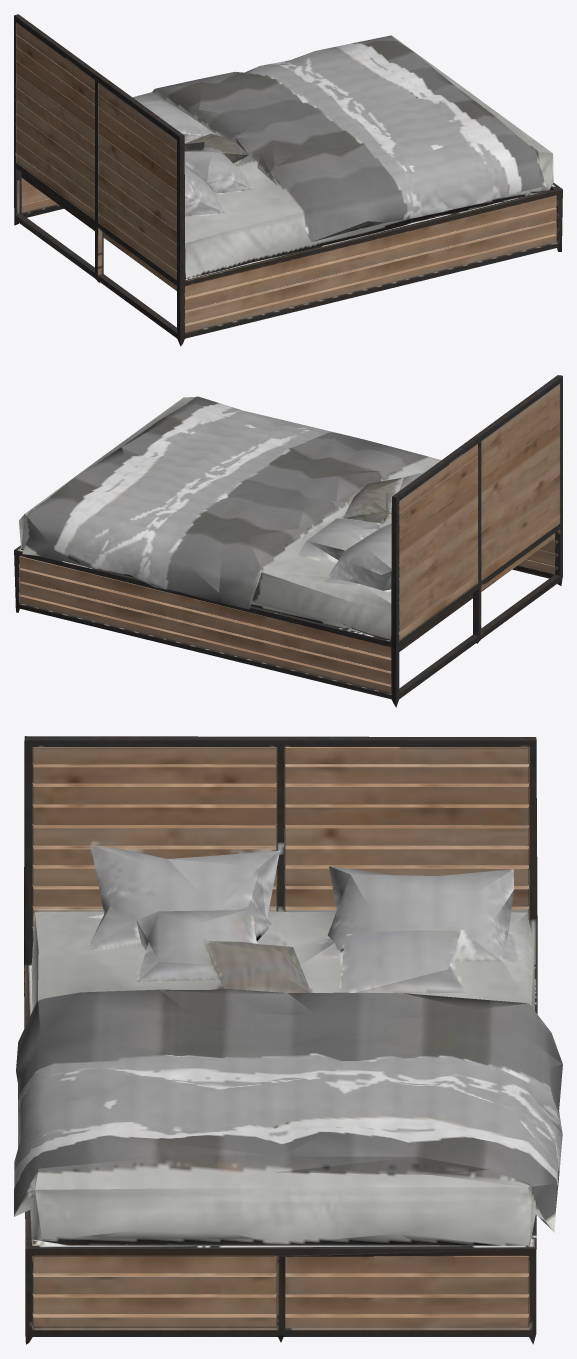
The model's file is Bed0009.obj.
The picture shows the model from 3 angles, top to bottom: view 1: azimuth 30°, elevation 25°; view 2: azimuth 150°, elevation 25°; view 3: azimuth 270°, elevation 25°; orthographic projection. The views are drawn at different scales.
Size of the model in its own units: 2.11 by 1.11 by 1.7.
Materials: 1 (1 with a texture image).
